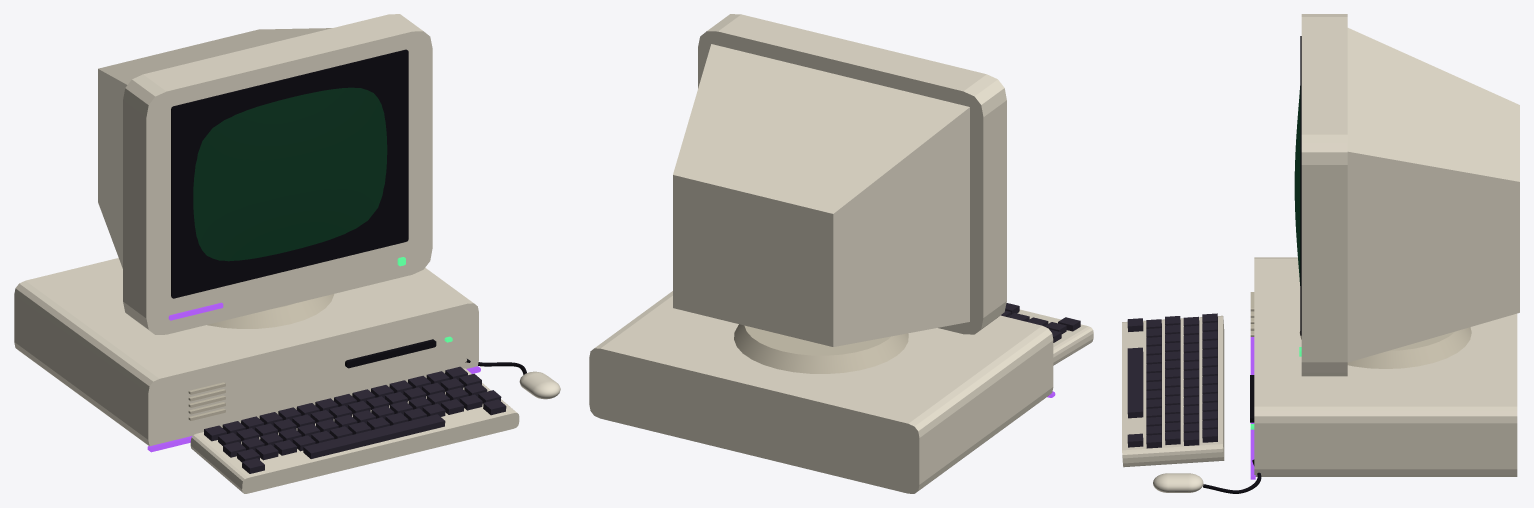
File: computer.glb
The picture shows the model from 3 angles, left to right: view 1: azimuth 30°, elevation 25°; view 2: azimuth 150°, elevation 25°; view 3: azimuth 270°, elevation 25°; orthographic projection.
Parts seen in each view (by area): view 1: Case, Bezel, Screen, Recess, Keys, KeyboardBase, Tube, Swivel, Floppy, Mouse; view 2: Tube, Case, Bezel, Swivel, KeyboardBase, Keys; view 3: Tube, Case, Bezel, Keys, KeyboardBase, Swivel, Screen, Mouse, Recess, Trim_Case.
Part boxes in pixels (box(x1,y1,x2,y2)): Case: box(14, 258, 478, 446); Bezel: box(123, 14, 432, 334); Screen: box(193, 87, 387, 261); Recess: box(171, 49, 408, 298); Keys: box(204, 366, 506, 473); KeyboardBase: box(190, 368, 519, 493); Tube: box(98, 28, 331, 268); Swivel: box(207, 294, 334, 328); Floppy: box(345, 339, 436, 368); Mouse: box(519, 371, 560, 399); Tube: box(673, 44, 969, 346); Case: box(589, 291, 1053, 493); Bezel: box(698, 14, 1006, 334); Swivel: box(734, 324, 908, 373); KeyboardBase: box(1017, 309, 1093, 365); Keys: box(1001, 303, 1080, 342); Tube: box(1347, 28, 1519, 362); Case: box(1254, 257, 1517, 476); Bezel: box(1301, 14, 1347, 376); Keys: box(1127, 313, 1217, 448); KeyboardBase: box(1122, 315, 1224, 467); Swivel: box(1299, 327, 1471, 368); Screen: box(1294, 86, 1300, 285); Mouse: box(1153, 473, 1203, 492); Recess: box(1300, 36, 1301, 335); Trim_Case: box(1250, 337, 1255, 479).
Bounding box in the file's own units: 0.82 × 0.7124 × 0.786.
